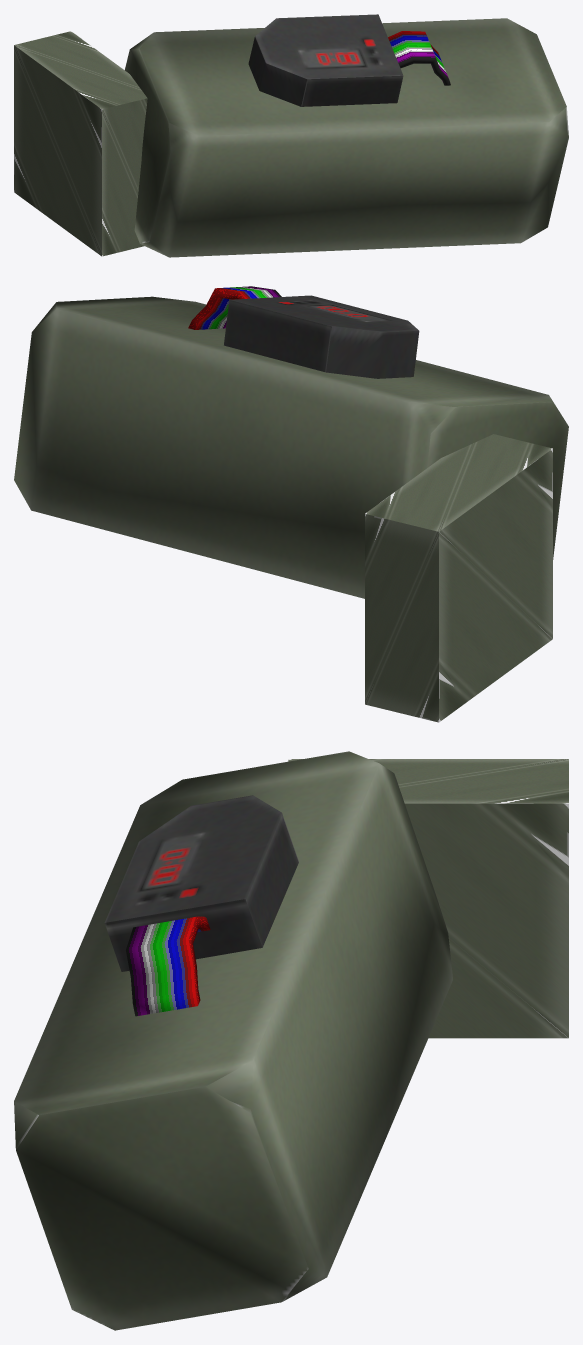
Rendered from c4-world.glb.
3 renders of one model, top to bottom at view 1: azimuth 30°, elevation 25°; view 2: azimuth 150°, elevation 25°; view 3: azimuth 270°, elevation 25°, orthographic. The views are drawn at different scales.
Parts seen in each view (by area): view 1: c4 held; view 2: c4 held; view 3: c4 held.
Boxes of the visible parts, x1,y1,x2,y2 form: c4 held: (14,14,568,257); c4 held: (14,286,568,722); c4 held: (14,751,568,1330).
Bounding box in the file's own units: 0.2318 × 0.1208 × 0.1687.
3 materials, 3 textured.
